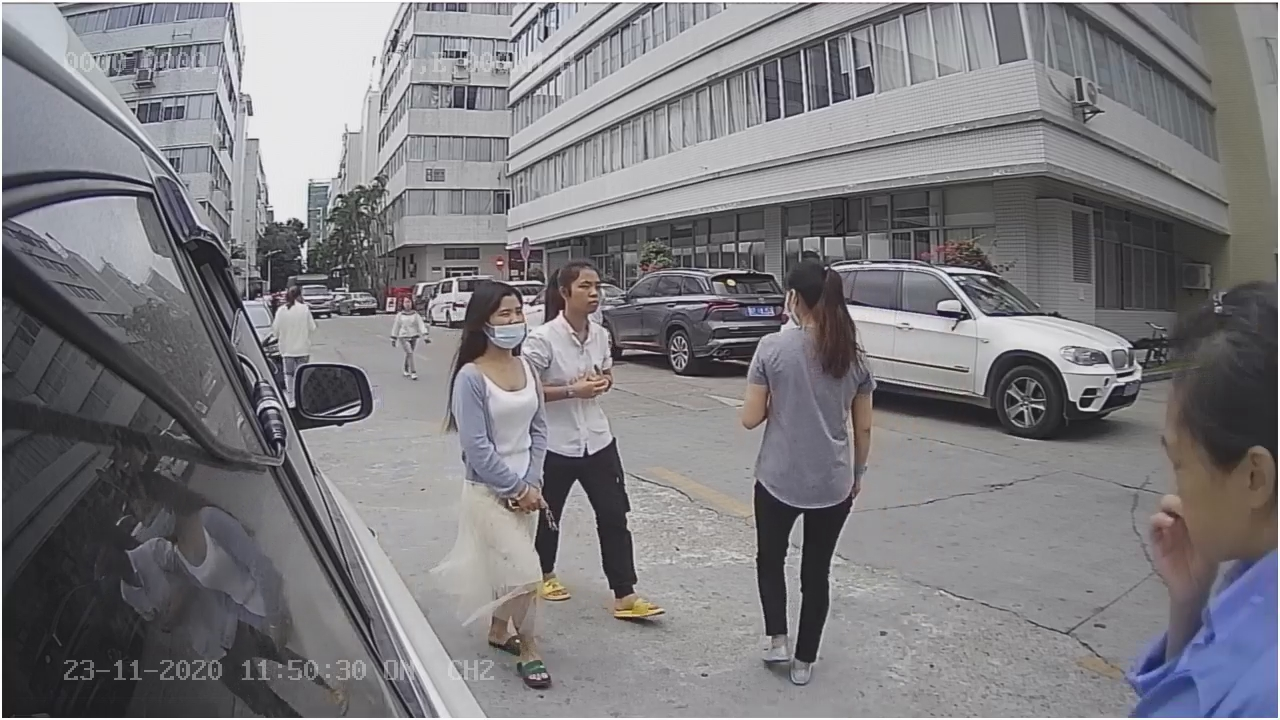person: (741, 254, 875, 680), (442, 284, 571, 684)
